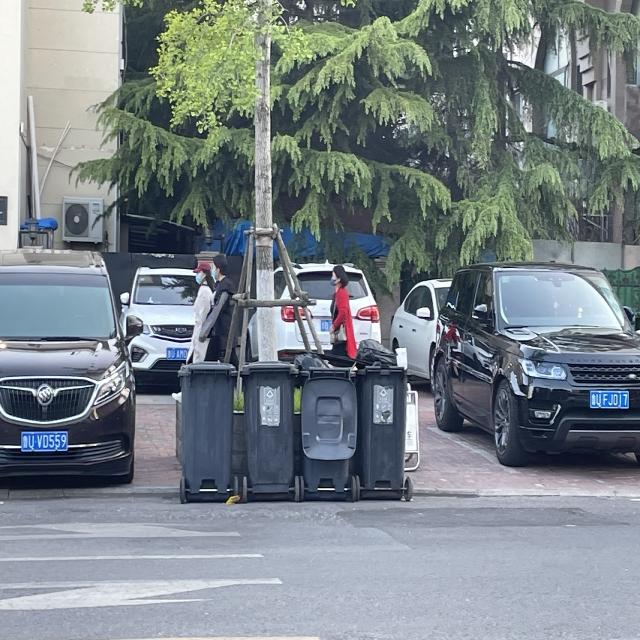garbage_bin: (238, 360, 298, 493), (177, 361, 235, 492)
overflow: (294, 347, 357, 491), (353, 336, 407, 489)
